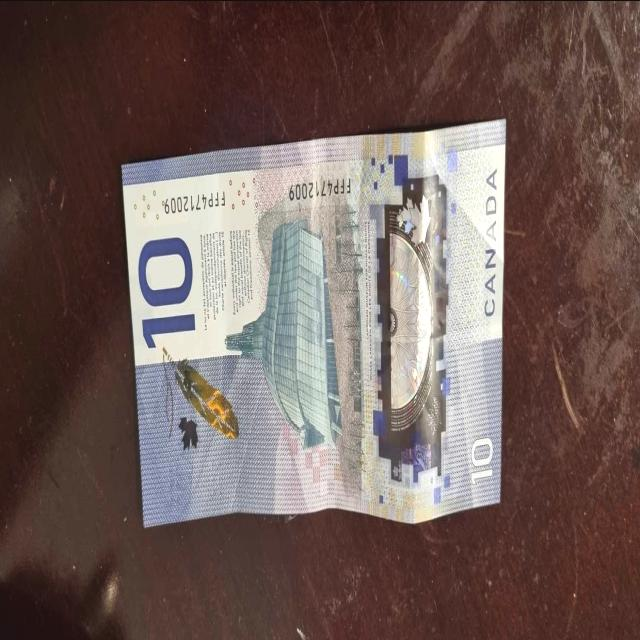10 cad: (126, 108, 512, 526)
